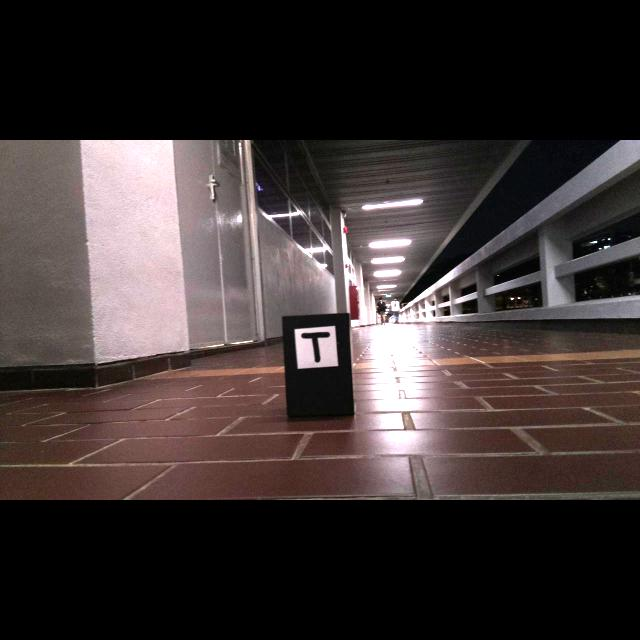T: (301, 332, 330, 363)
